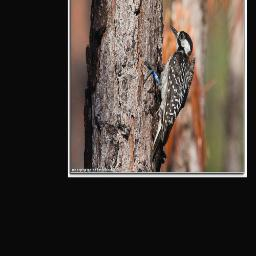Woodpecker: (137, 19, 200, 172)
